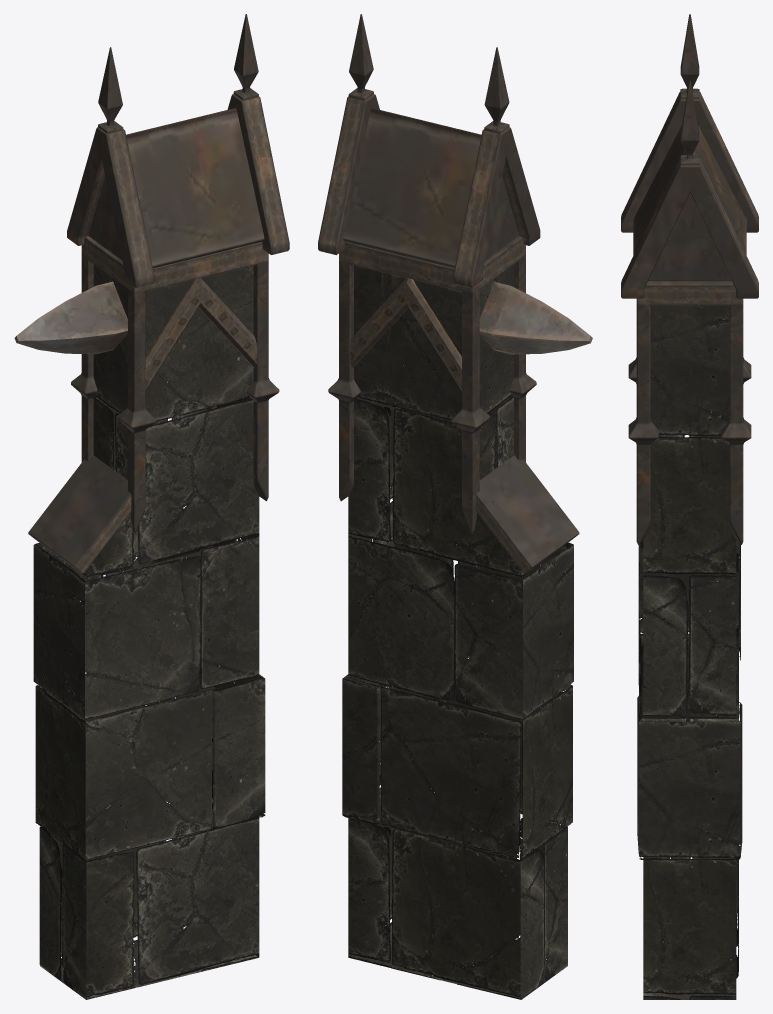
3 renders of one model, left to right at view 1: azimuth 30°, elevation 25°; view 2: azimuth 150°, elevation 25°; view 3: azimuth 270°, elevation 25°, orthographic.
Parts seen in each view (by area): view 1: SM_Greathall_Flying_Buttress_03_LOD0; view 2: SM_Greathall_Flying_Buttress_03_LOD0; view 3: SM_Greathall_Flying_Buttress_03_LOD0.
Part boxes in pixels (left/top/right/bottom): SM_Greathall_Flying_Buttress_03_LOD0: left=14, top=14, right=289, bottom=999; SM_Greathall_Flying_Buttress_03_LOD0: left=318, top=14, right=592, bottom=999; SM_Greathall_Flying_Buttress_03_LOD0: left=621, top=14, right=758, bottom=999.
Bounding box in the file's own units: 2.38 × 8.8 × 1.19.
Materials: 3 (3 with a texture image).
